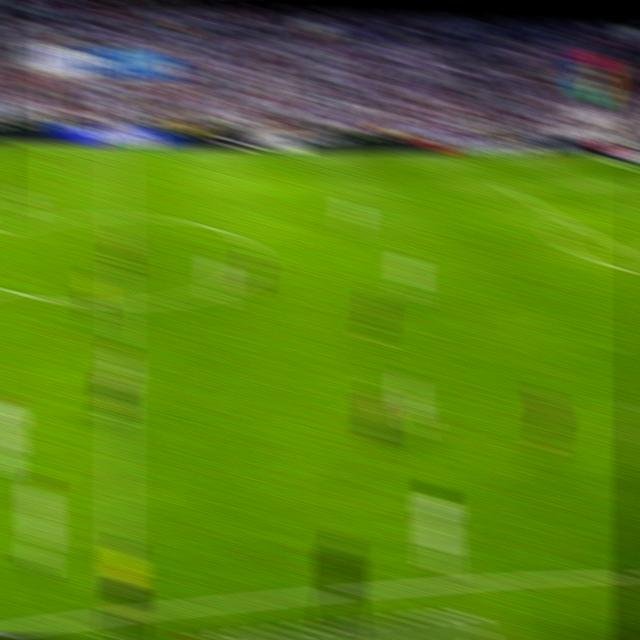corner: (580, 148, 601, 162)
halfcircle_bottom: (108, 288, 131, 317)
halfcircle_top: (108, 203, 130, 226)
midline_top_intersection: (109, 144, 128, 159)
top_arc_area_intersection: (556, 210, 577, 229)
